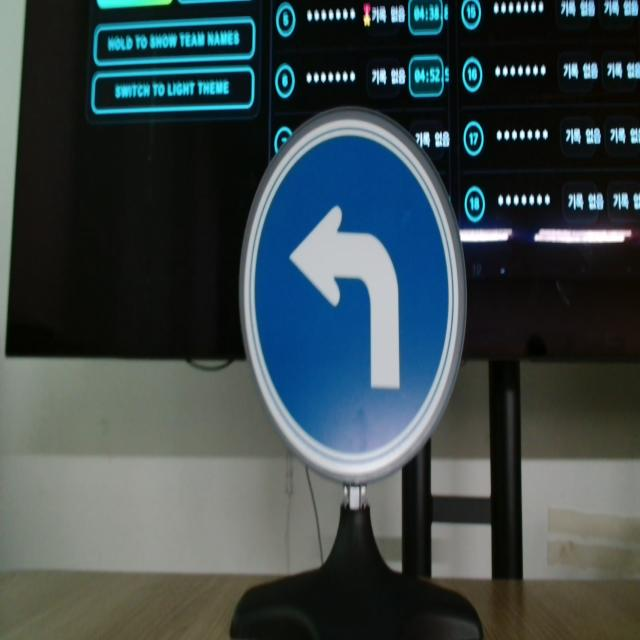left_direction: (238, 108, 466, 482)
